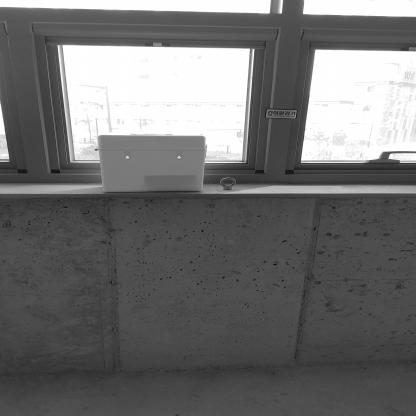DDL: (100, 134, 206, 193)
